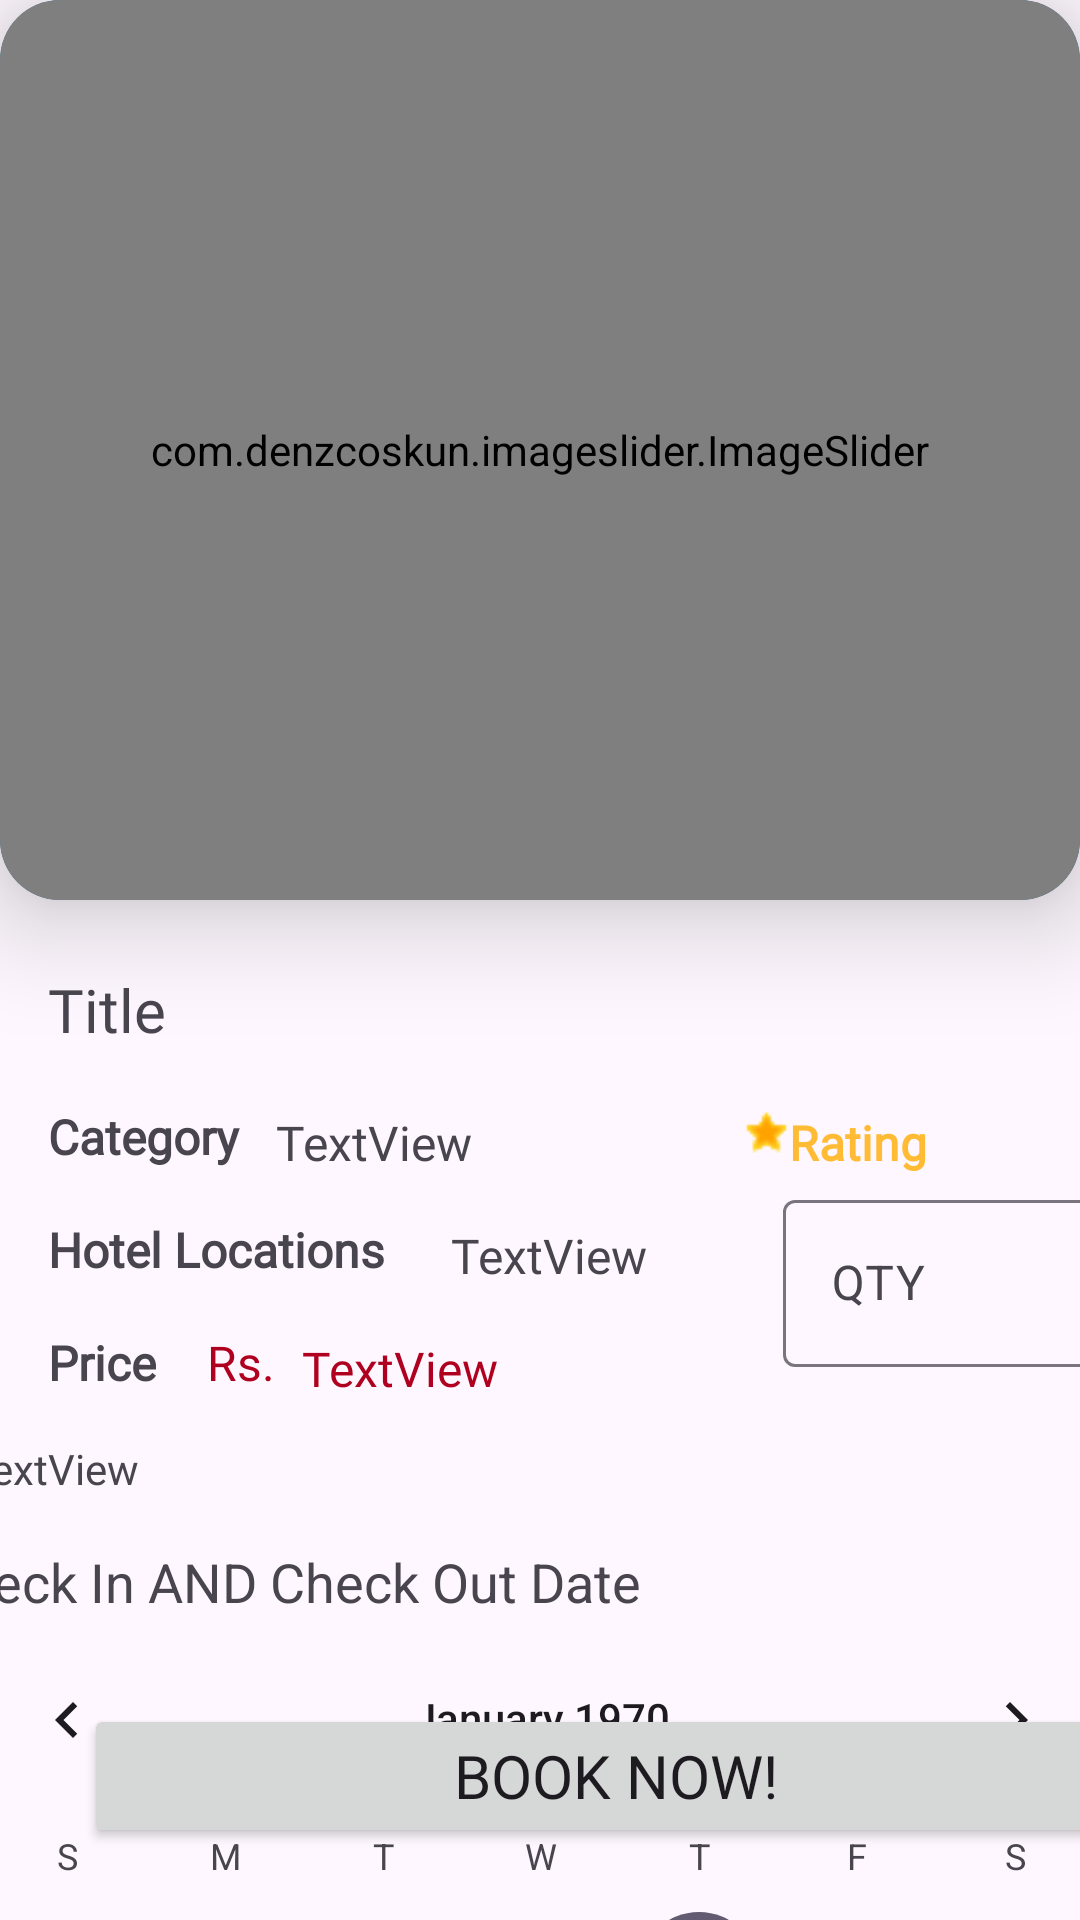

Screen size 1080*1920. Icon name, then its box in pixels as [x1=x1, y1=y1, x2=x2, y2=y2]:
star: [x1=746, y1=1112, x2=787, y2=1153]
